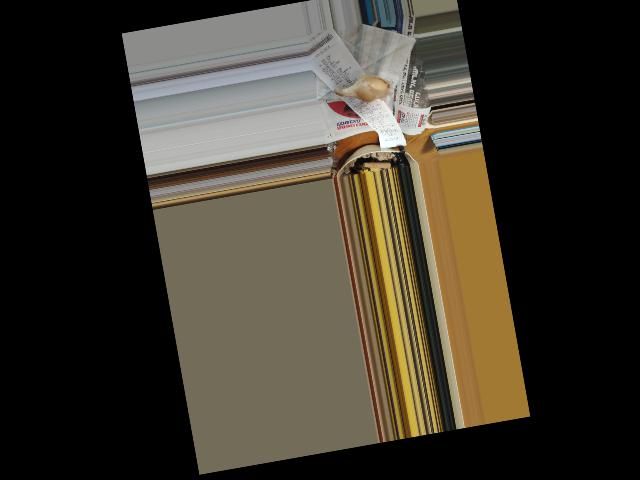onion: (348, 71, 390, 103)
